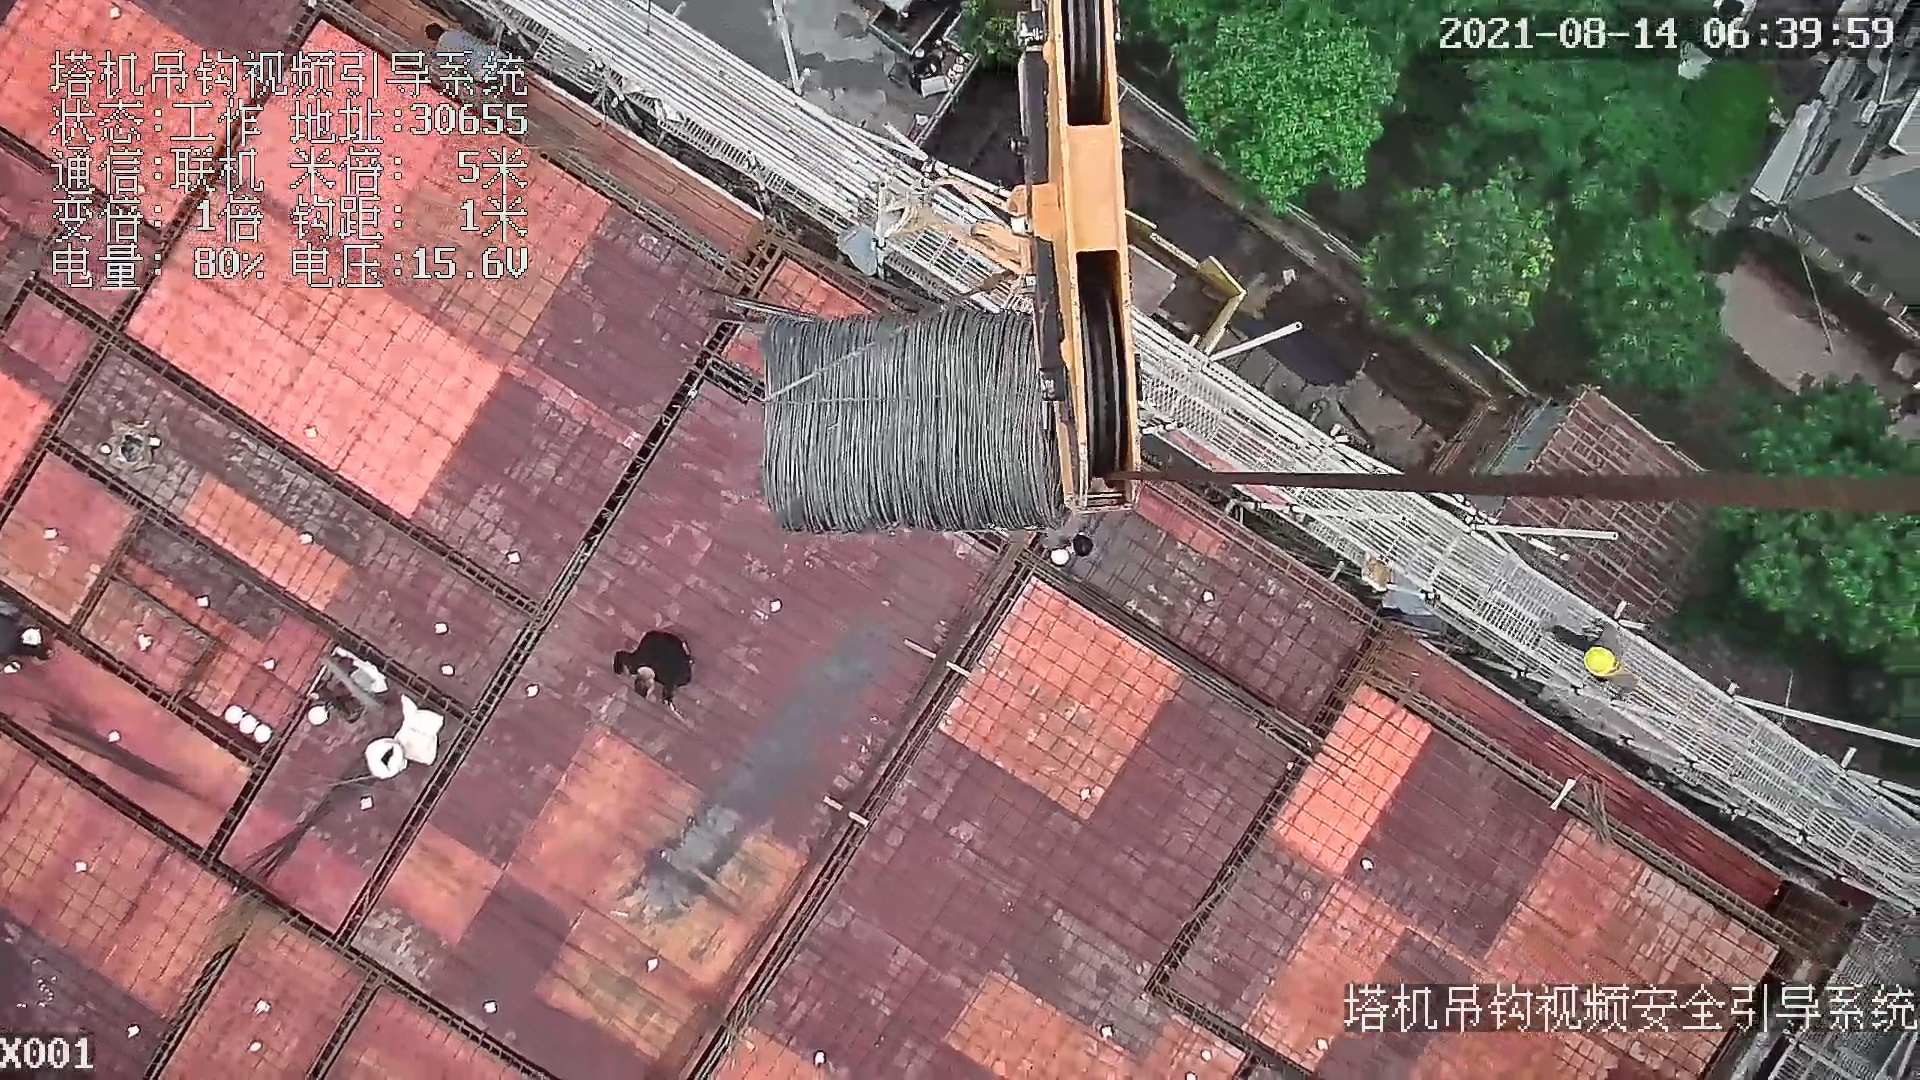helmet: (1585, 646, 1621, 680)
hook: (919, 9, 1149, 513)
person: (609, 622, 692, 710), (1550, 613, 1636, 694), (422, 18, 516, 92), (1043, 508, 1099, 556), (9, 620, 53, 663)
